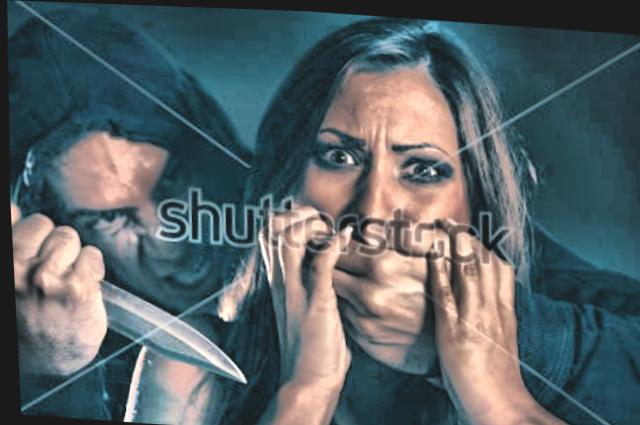knife: (8, 207, 256, 386)
